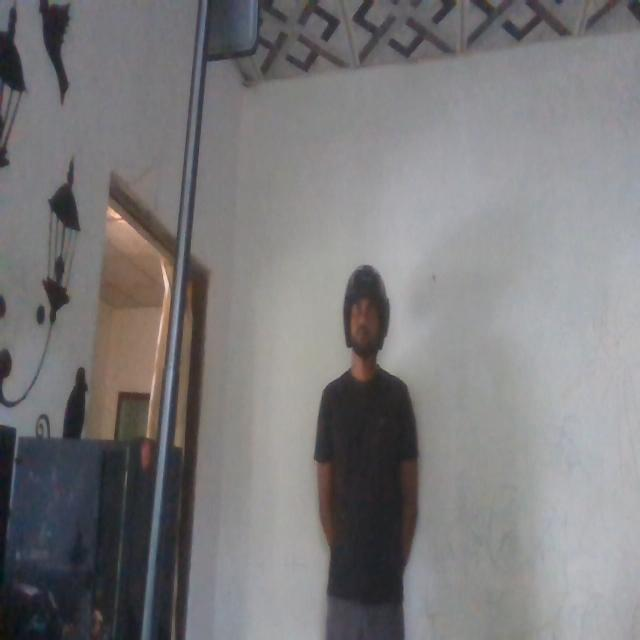Helmet_Wearer: (336, 265, 388, 389)
Person: (315, 263, 423, 640)
